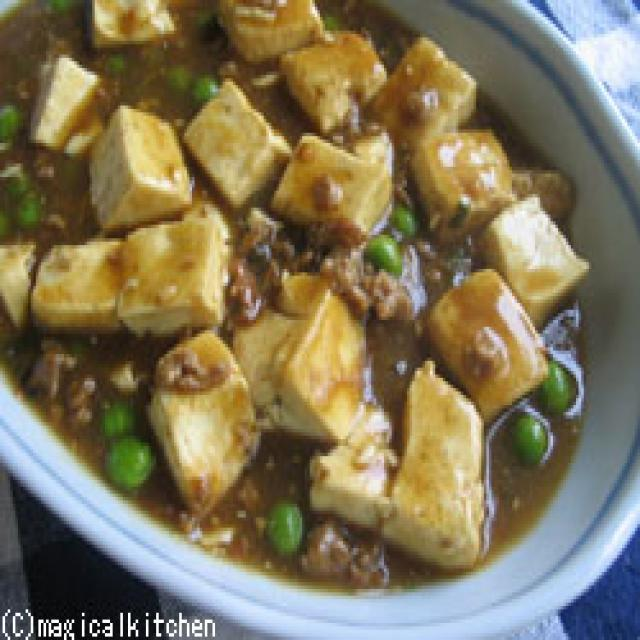豆腐料理: (0, 0, 640, 599)
